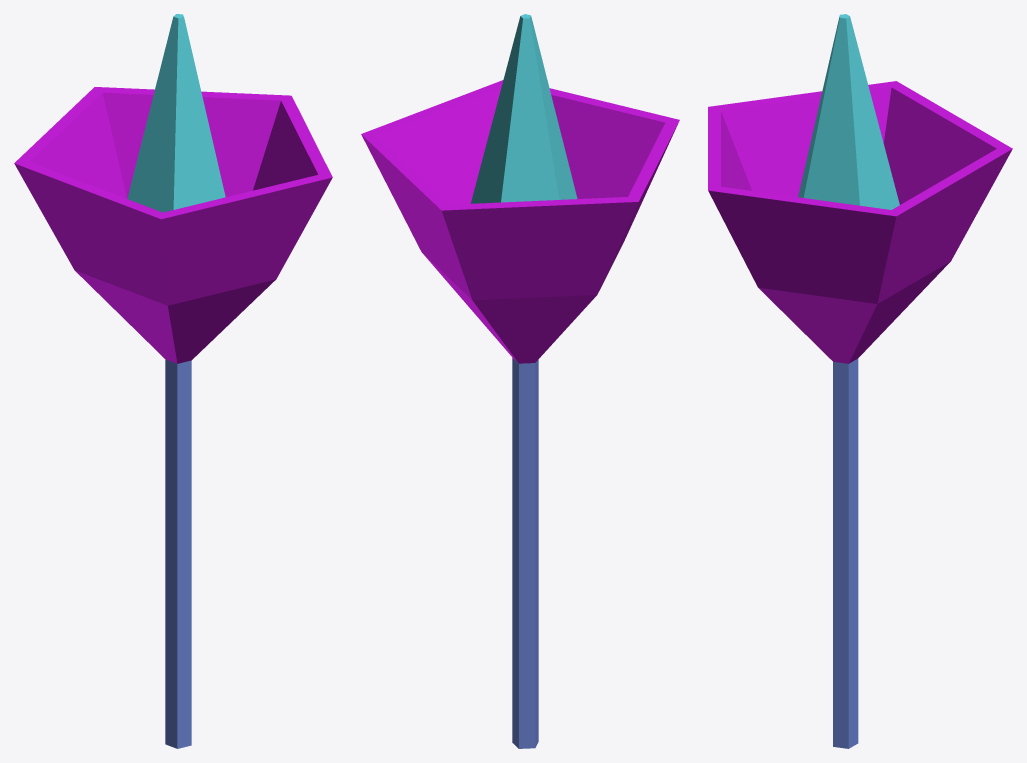
Rendered from flower-01.fbx.
3 renders of one model, left to right at view 1: azimuth 30°, elevation 25°; view 2: azimuth 150°, elevation 25°; view 3: azimuth 270°, elevation 25°, orthographic.
Parts seen in each view (by area): view 1: Cylinder; view 2: Cylinder; view 3: Cylinder.
Boxes of the visible parts, bbox=[...] form: Cylinder: bbox=[14, 14, 332, 748]; Cylinder: bbox=[361, 14, 679, 748]; Cylinder: bbox=[708, 14, 1012, 748].
Size of the model in its own units: 11.5 by 28.78 by 10.93.
